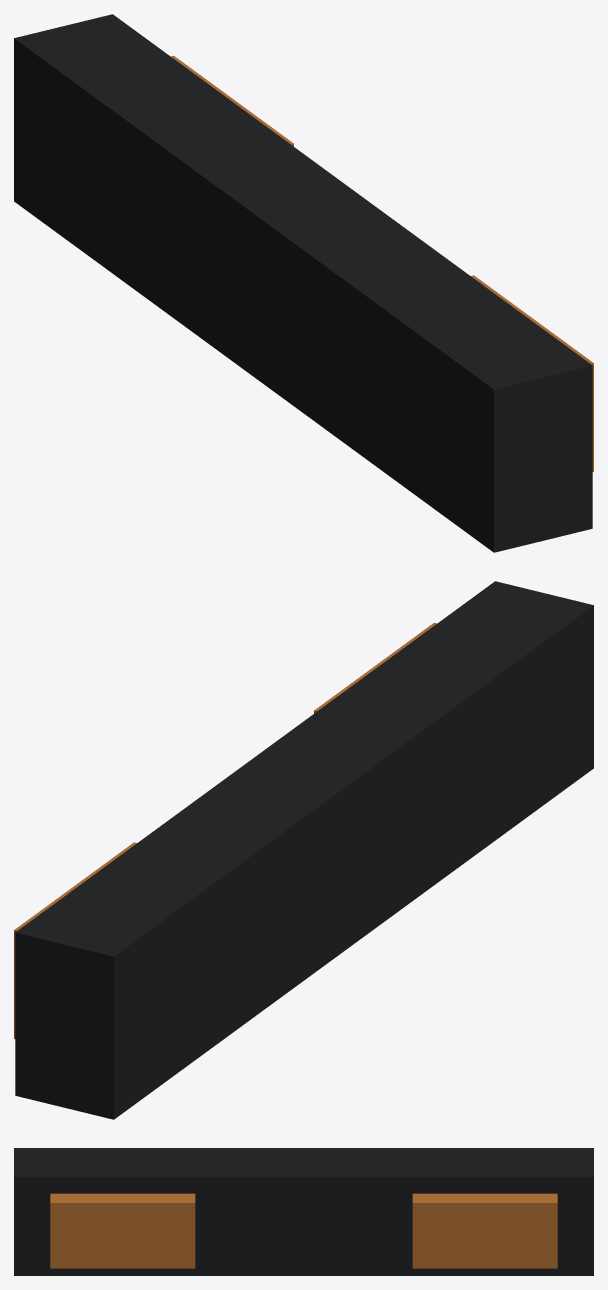
Rendered from charging_contacts.dae.
The picture shows the model from 3 angles, top to bottom: view 1: azimuth 30°, elevation 25°; view 2: azimuth 150°, elevation 25°; view 3: azimuth 270°, elevation 25°; orthographic projection. The views are drawn at different scales.
Visible parts, largest first — view 1: ChargeContactHousing; view 2: ChargeContactHousing; view 3: ChargeContactHousing, ChargePad_Plus, ChargePad_Minus.
Boxes of the visible parts, x1,y1,x2,y2 form: ChargeContactHousing: (14,14,592,552); ChargeContactHousing: (15,581,593,1119); ChargeContactHousing: (14,1148,593,1275); ChargePad_Plus: (412,1193,557,1268); ChargePad_Minus: (50,1193,195,1268).
Size of the model in its own units: 0.025 by 0.16 by 0.03.
